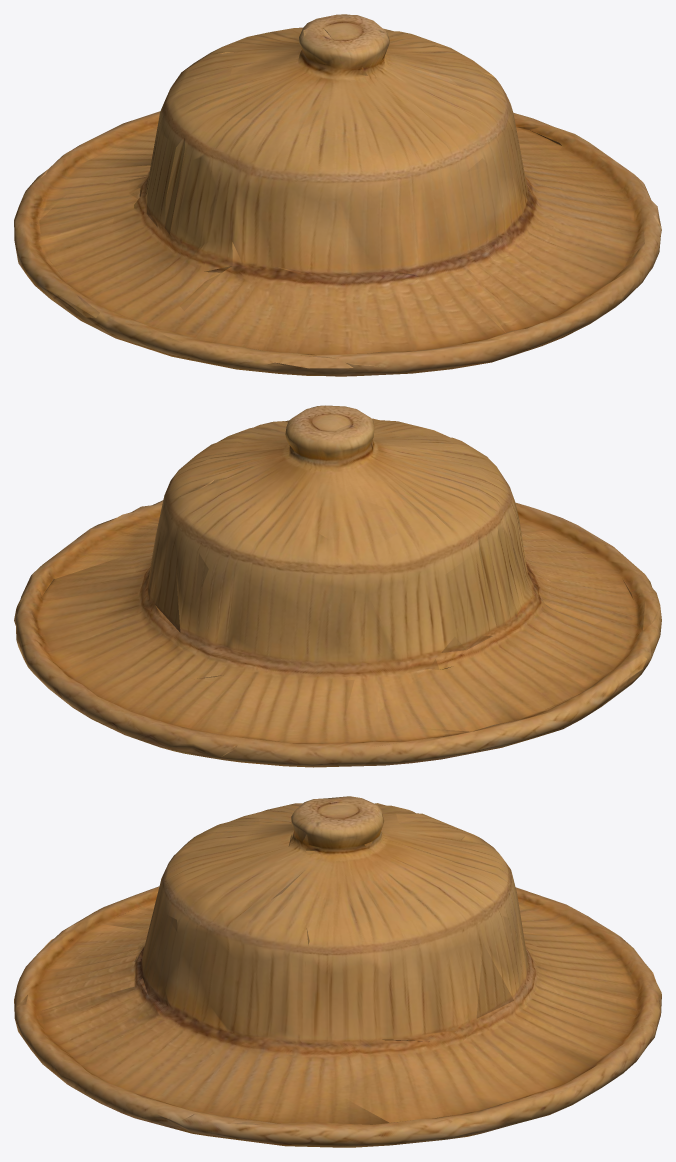
File: M3D_sombrero.fbx
3 renders of one model, top to bottom at view 1: azimuth 30°, elevation 25°; view 2: azimuth 150°, elevation 25°; view 3: azimuth 270°, elevation 25°, orthographic.
Visible parts, largest first — view 1: SM_sombrero; view 2: SM_sombrero; view 3: SM_sombrero.
Boxes of the visible parts, x1,y1,x2,y2 form: SM_sombrero: (14, 14, 661, 376); SM_sombrero: (14, 405, 661, 767); SM_sombrero: (14, 796, 661, 1147).
Bounding box in the file's own units: 0.3775 × 0.141 × 0.3821.
